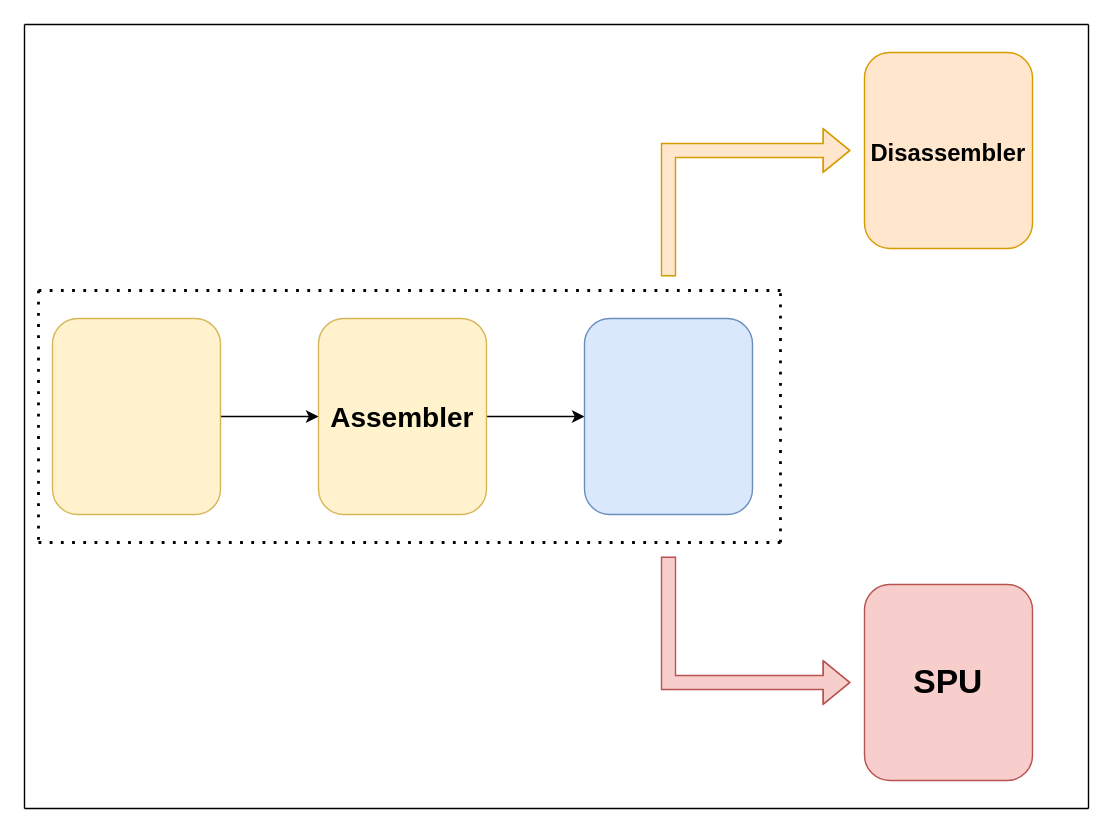
Some shapes in this 1114 by 834 pixel diagram are drawn without their labels. Each missing label, with the centre of its shape:
Assembly source code: the point at 135,415
Executable binary file: the point at 667,415
